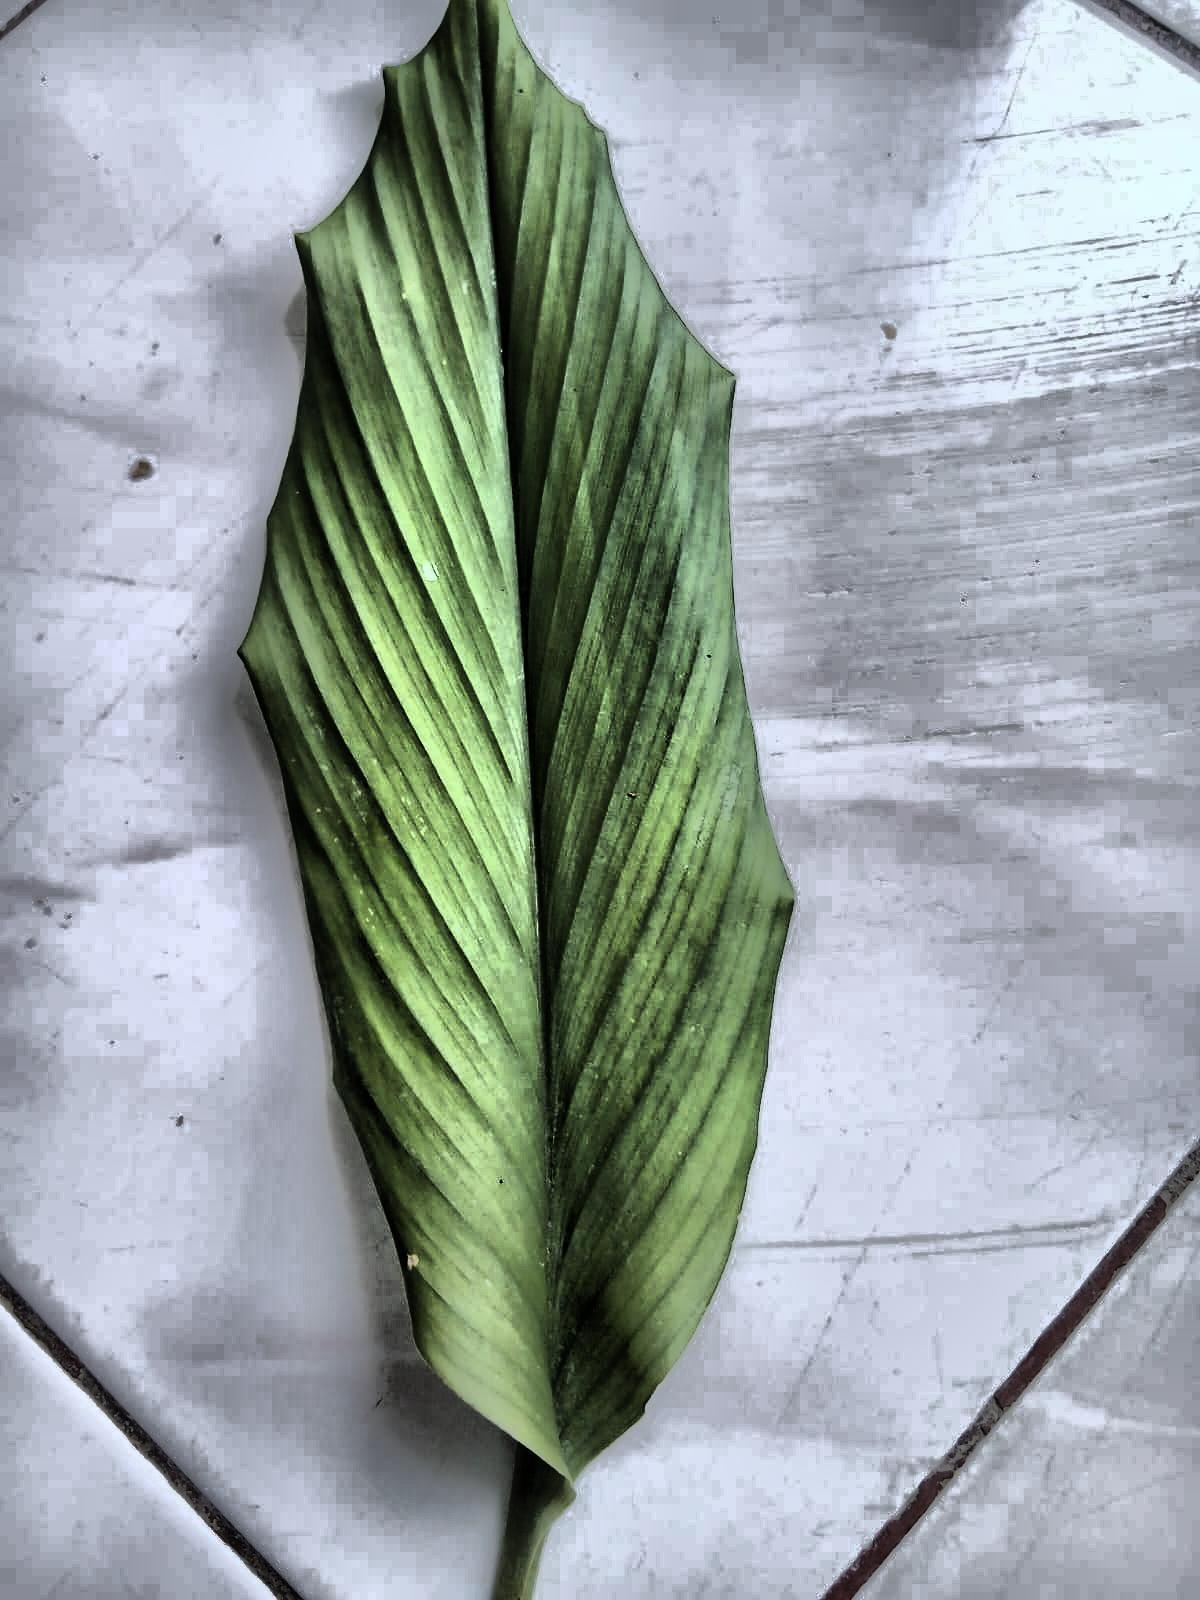daun kunyit: (241, 0, 792, 1599)
